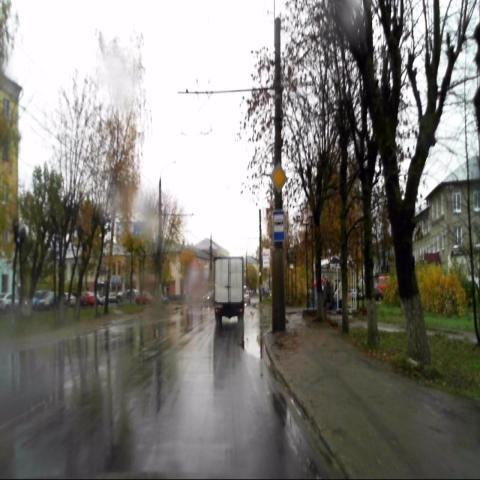2_1: (270, 162, 287, 193)
5_16: (272, 208, 285, 243)
